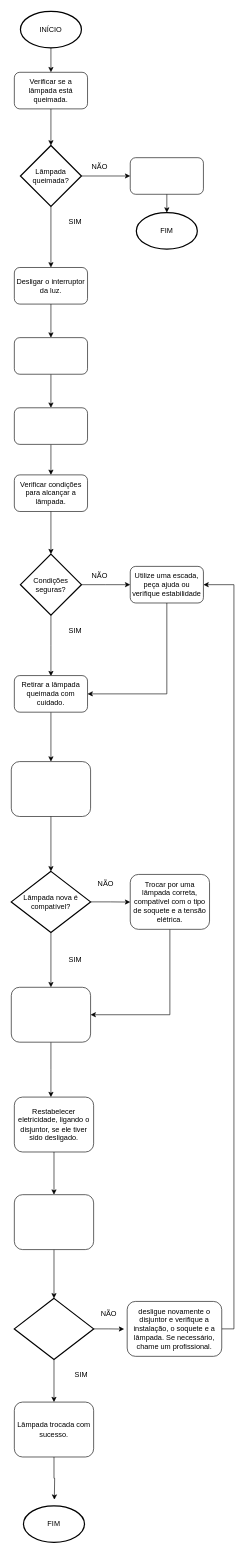
Some shapes in this 249 by 1553 pixel diagram are drawn without their labels. The shapes that lost their labels are listed below. From the top down, each one's box as (x1, y1, x2, y2) in pixels, then its label:
(130, 157, 203, 194): A lâmpada está funcionando.
(14, 337, 88, 374): Desligar o disjuntor (se necessário).
(14, 407, 88, 444): Aguardar a lâmpada esfriar.
(11, 761, 91, 816): Verificar se a lâmpada nova é compatível com o soquete e a tensão elétrica.
(11, 987, 91, 1042): Instalar a lâmpada nova corretamente.
(14, 1194, 94, 1250): Ligue o interruptor e verifique se a lâmpada funciona.
(13, 1297, 94, 1360): Funciona?
